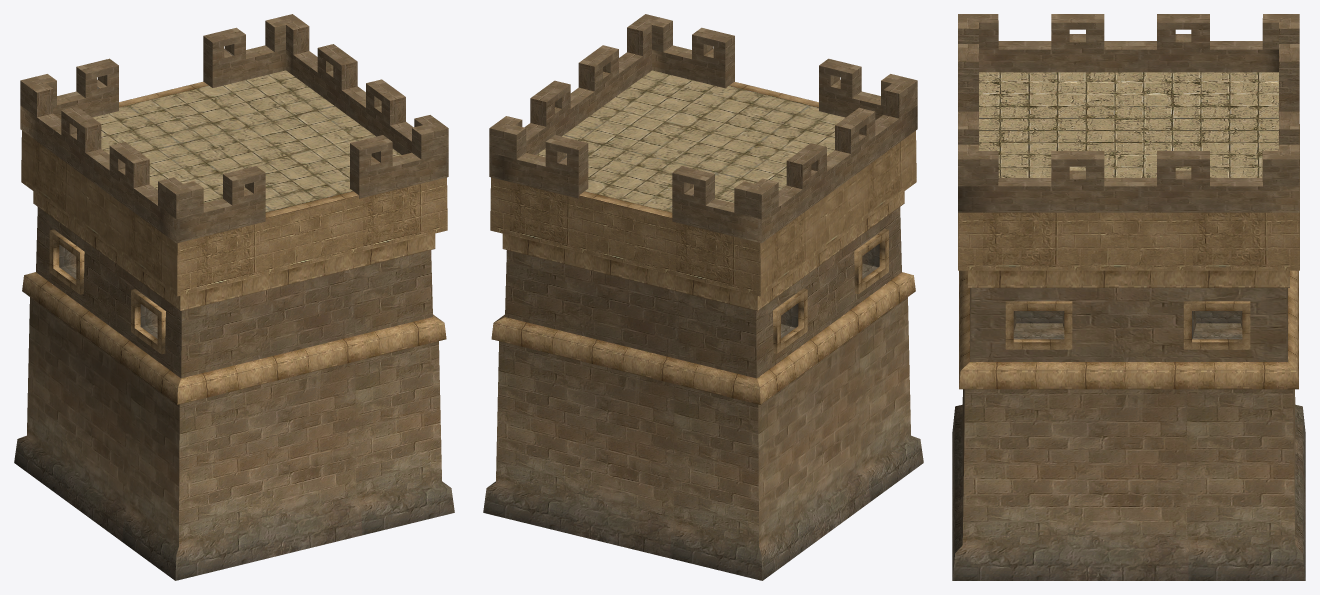
File: environment_Building_fenghuotai_a.FBX
The picture shows the model from 3 angles, left to right: view 1: azimuth 30°, elevation 25°; view 2: azimuth 150°, elevation 25°; view 3: azimuth 270°, elevation 25°; orthographic projection. The views are drawn at different scales.
Parts seen in each view (by area): view 1: environment_Building_fenghuotai_a02, environment_Building_fenghuotai_a03, environment_Building_fenghuotai_a01; view 2: environment_Building_fenghuotai_a02, environment_Building_fenghuotai_a03, environment_Building_fenghuotai_a01; view 3: environment_Building_fenghuotai_a02, environment_Building_fenghuotai_a03, environment_Building_fenghuotai_a01.
Part boxes in pixels (x1,y1,x2,y2): environment_Building_fenghuotai_a02: (14, 14, 454, 580); environment_Building_fenghuotai_a03: (21, 81, 447, 404); environment_Building_fenghuotai_a01: (92, 70, 401, 212); environment_Building_fenghuotai_a02: (483, 14, 923, 580); environment_Building_fenghuotai_a03: (490, 81, 916, 404); environment_Building_fenghuotai_a01: (536, 70, 844, 212); environment_Building_fenghuotai_a02: (952, 14, 1305, 580); environment_Building_fenghuotai_a03: (958, 124, 1299, 389); environment_Building_fenghuotai_a01: (979, 72, 1278, 177).
Bounding box in the file's own units: 144 × 144 × 189.
